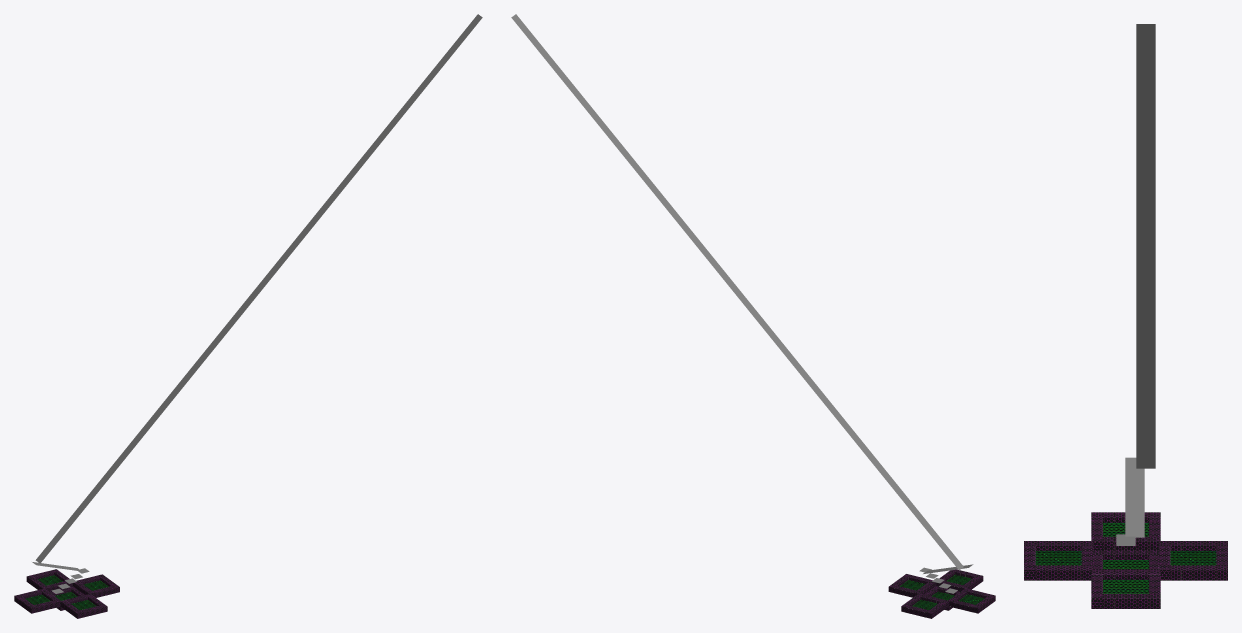
File: map_test.obj
3 views of the same model, side by side, from view 1: azimuth 30°, elevation 25°; view 2: azimuth 150°, elevation 25°; view 3: azimuth 270°, elevation 25° (orthographic). The views are drawn at different scales.
Visible parts, largest first — view 1: pasted__pasted__pPlane1 pasted__group9 group10, map3 group2, map1 group, map2 group1, map4 group3; view 2: pasted__pasted__pPlane1 pasted__group9 group10, map4 group3, map1 group, map2 group1, map3 group2; view 3: pasted__pasted__pPlane1 pasted__group9 group10, map2 group1, map3 group2, map4 group3, map1 group, pasted__pPlane1 group9, pasted__map group4.
Part boxes in pixels (left/top/right/bottom): pasted__pasted__pPlane1 pasted__group9 group10: left=35, top=14, right=482, bottom=563; map3 group2: left=60, top=594, right=107, bottom=618; map1 group: left=14, top=588, right=60, bottom=613; map2 group1: left=73, top=574, right=119, bottom=597; map4 group3: left=26, top=569, right=72, bottom=591; pasted__pasted__pPlane1 pasted__group9 group10: left=511, top=14, right=963, bottom=570; map4 group3: left=901, top=593, right=948, bottom=618; map1 group: left=948, top=588, right=995, bottom=613; map2 group1: left=888, top=574, right=936, bottom=597; map3 group2: left=936, top=569, right=983, bottom=591; pasted__pasted__pPlane1 pasted__group9 group10: left=1136, top=24, right=1155, bottom=468; map2 group1: left=1091, top=569, right=1160, bottom=608; map3 group2: left=1024, top=541, right=1093, bottom=580; map4 group3: left=1158, top=541, right=1227, bottom=580; map1 group: left=1091, top=512, right=1160, bottom=550; pasted__pPlane1 group9: left=1125, top=457, right=1144, bottom=537; pasted__map group4: left=1093, top=550, right=1158, bottom=569.
Bounding box in the file's own units: 555 × 550 × 106.
11 materials, 10 textured.
